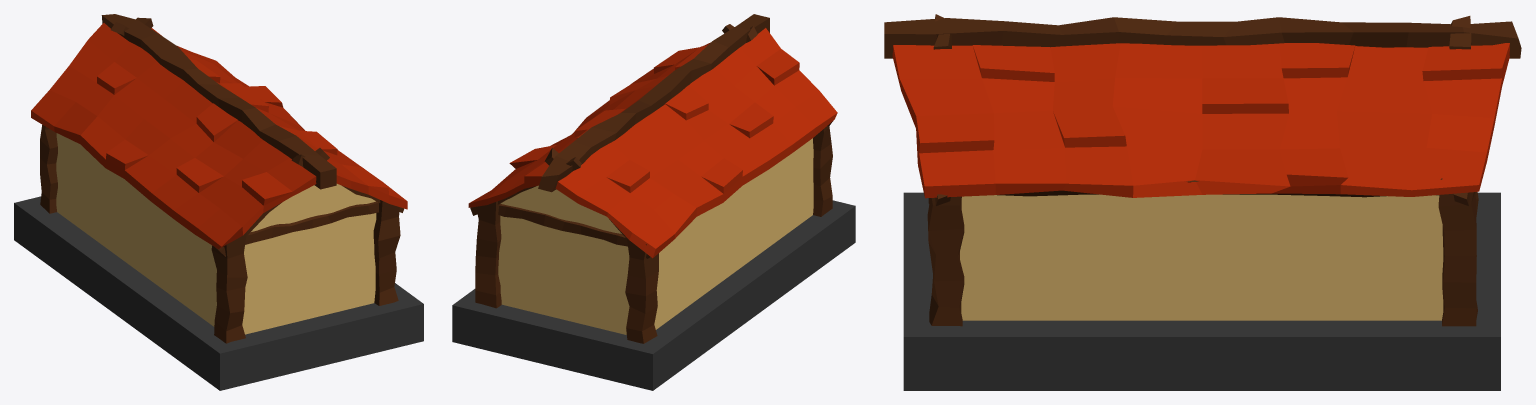
Rendered from House02_01.fbx.
3 renders of one model, left to right at view 1: azimuth 30°, elevation 25°; view 2: azimuth 150°, elevation 25°; view 3: azimuth 270°, elevation 25°, orthographic. The views are drawn at different scales.
Parts seen in each view (by area): view 1: House02; view 2: House02; view 3: House02.
Part boxes in pixels (box(x1,y1,x2,y2)): House02: box(14, 14, 423, 390); House02: box(452, 14, 855, 390); House02: box(884, 14, 1521, 390).
Size of the model in its own units: 800 by 772 by 1493.
